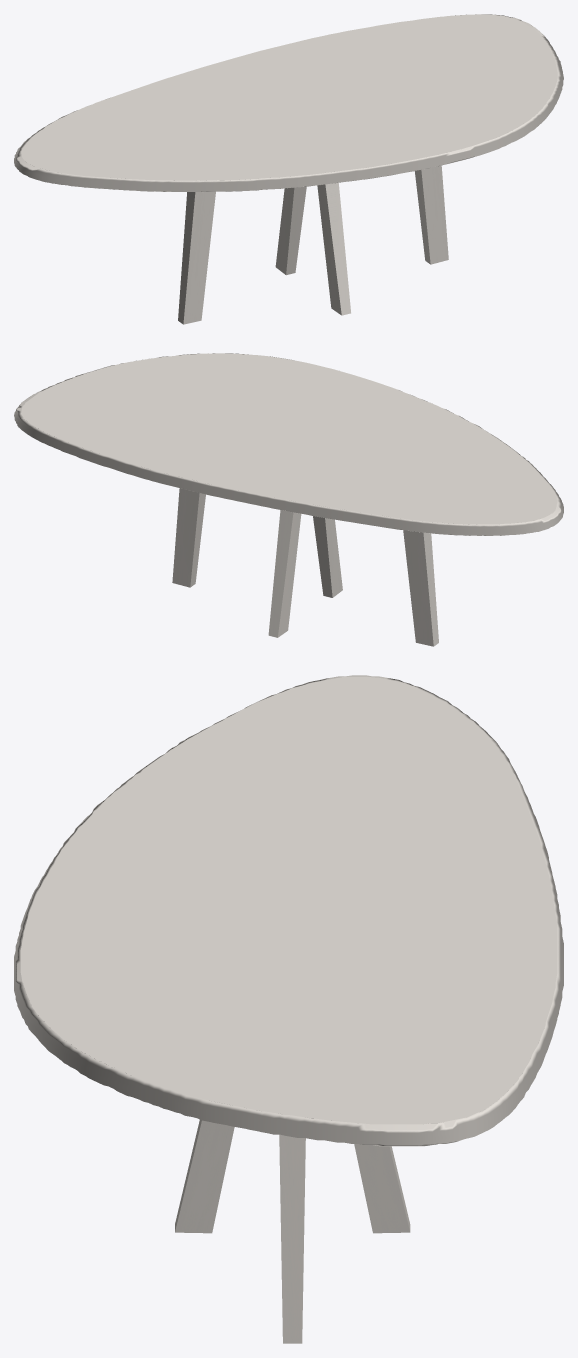
File: pearlwhite_pebbletop_round_searwalnut.glb
3 views of the same model, one above another, from view 1: azimuth 30°, elevation 25°; view 2: azimuth 150°, elevation 25°; view 3: azimuth 270°, elevation 25° (orthographic). The views are drawn at different scales.
Parts seen in each view (by area): view 1: round_pebbletop, searwalnut; view 2: round_pebbletop, searwalnut; view 3: round_pebbletop, searwalnut.
Part boxes in pixels (box(x1,y1,x2,y2)): round_pebbletop: box(14, 14, 563, 192); searwalnut: box(178, 165, 448, 324); round_pebbletop: box(14, 353, 563, 535); searwalnut: box(172, 488, 438, 646); round_pebbletop: box(14, 675, 563, 1146); searwalnut: box(175, 1120, 410, 1343).
Size of the model in its own units: 7.69 by 2.5 by 3.89.
Materials: 1 (1 with a texture image).
